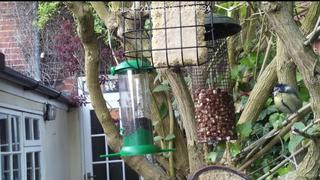blue tit: (272, 84, 302, 124)
